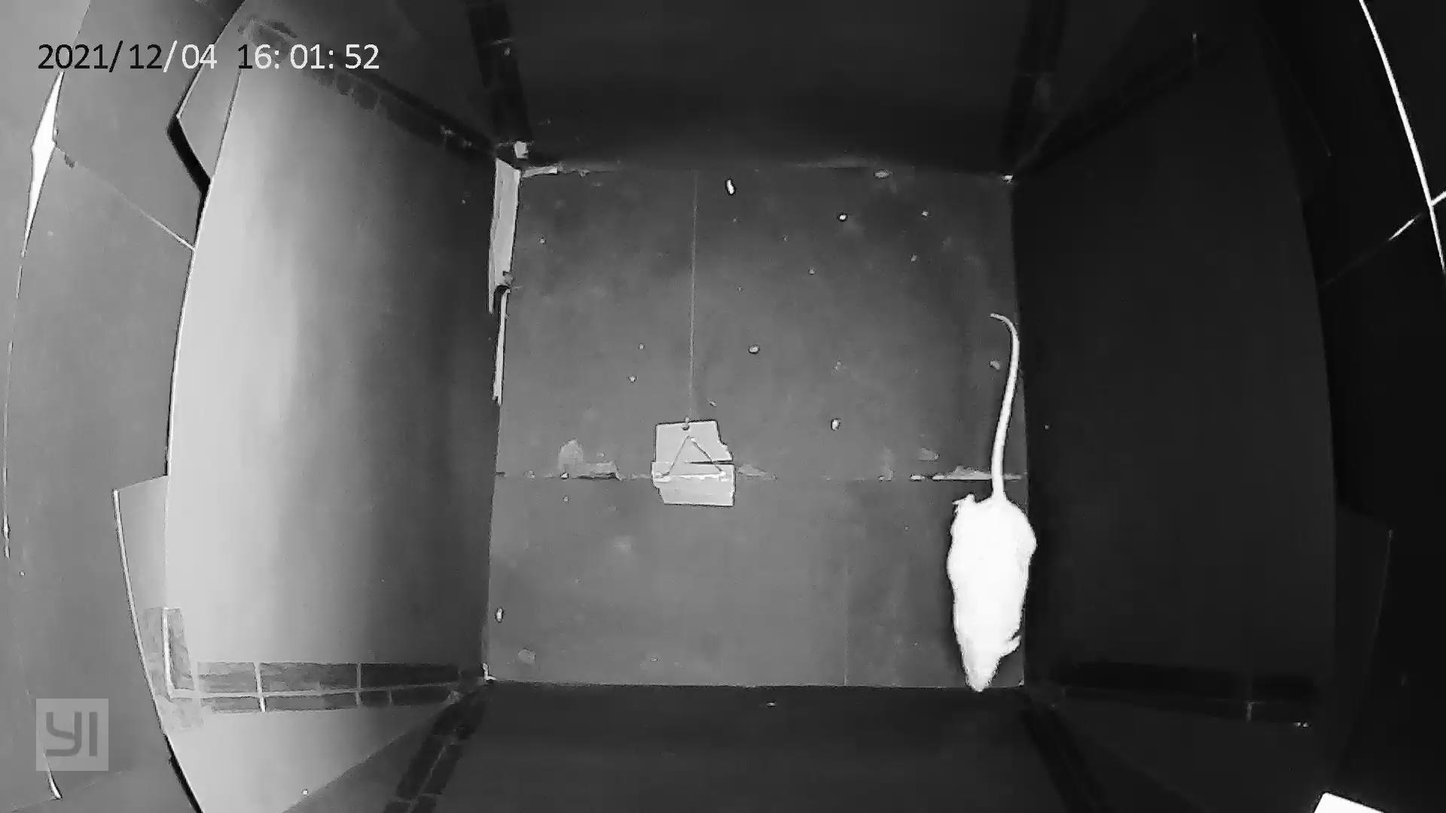rat: (923, 290, 1046, 713)
